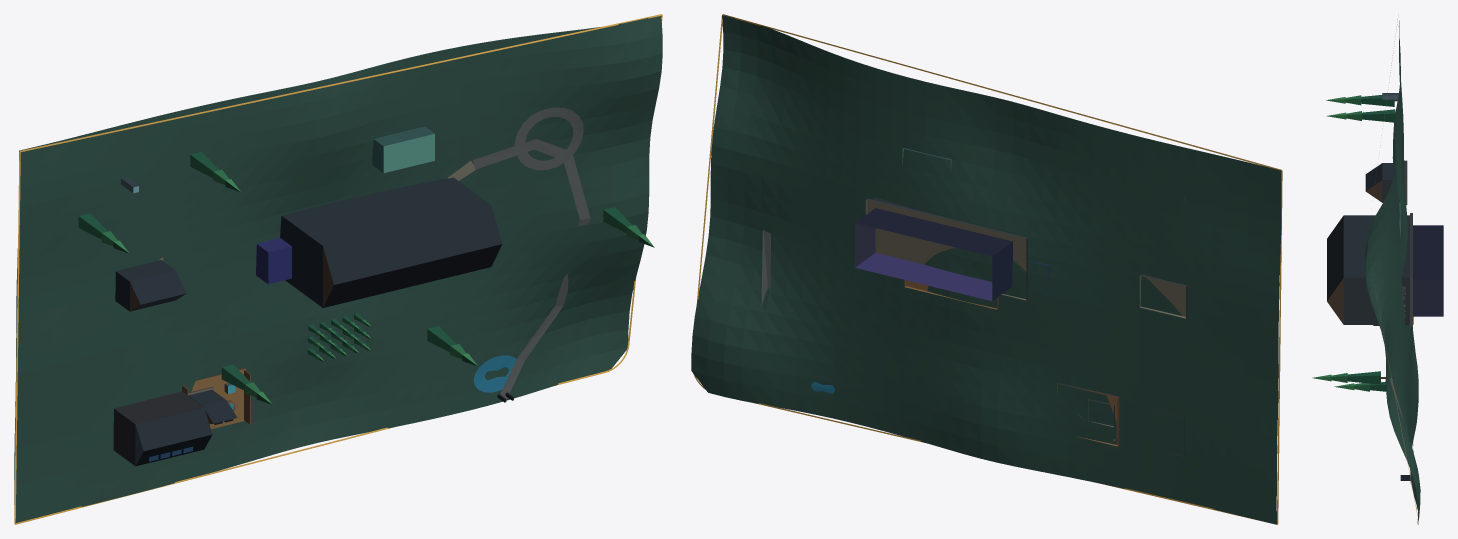
The model's file is outpost-one-concept-model.obj.
3 renders of one model, left to right at view 1: azimuth 30°, elevation 25°; view 2: azimuth 150°, elevation 25°; view 3: azimuth 270°, elevation 25°, orthographic. The views are drawn at different scales.
Visible parts, largest first — view 1: terrain, outpost_hq, barn, ponderosa_retention_target, assessor_gis_outline, adu, greenhouse, internal_drive, motor_court, demo_closet, orchard_concept, nordic_spa (+3 smaller); view 2: terrain, bermed_wing, outpost_hq, assessor_gis_outline, adu; view 3: terrain, outpost_hq, bermed_wing, ponderosa_retention_target, adu, assessor_gis_outline.
Part boxes in pixels (<box>): terrain: <box>14,16,662,522</box>; outpost_hq: <box>280,177,502,307</box>; barn: <box>113,391,212,466</box>; ponderosa_retention_target: <box>78,152,654,404</box>; assessor_gis_outline: <box>14,14,662,524</box>; adu: <box>115,257,186,311</box>; greenhouse: <box>372,126,434,173</box>; internal_drive: <box>500,155,590,399</box>; motor_court: <box>514,107,583,170</box>; demo_closet: <box>256,237,291,284</box>; orchard_concept: <box>307,313,370,361</box>; nordic_spa: <box>191,367,245,428</box>; terrain: <box>691,15,1281,524</box>; bermed_wing: <box>855,208,1012,300</box>; outpost_hq: <box>865,197,1027,300</box>; assessor_gis_outline: <box>693,14,1282,524</box>; adu: <box>1139,274,1187,318</box>; terrain: <box>1364,20,1420,524</box>; outpost_hq: <box>1327,213,1412,327</box>; bermed_wing: <box>1413,225,1443,316</box>; ponderosa_retention_target: <box>1312,95,1397,391</box>; adu: <box>1365,160,1407,204</box>; assessor_gis_outline: <box>1380,14,1417,524</box>.
Size of the model in its own units: 651 by 378 by 157.
